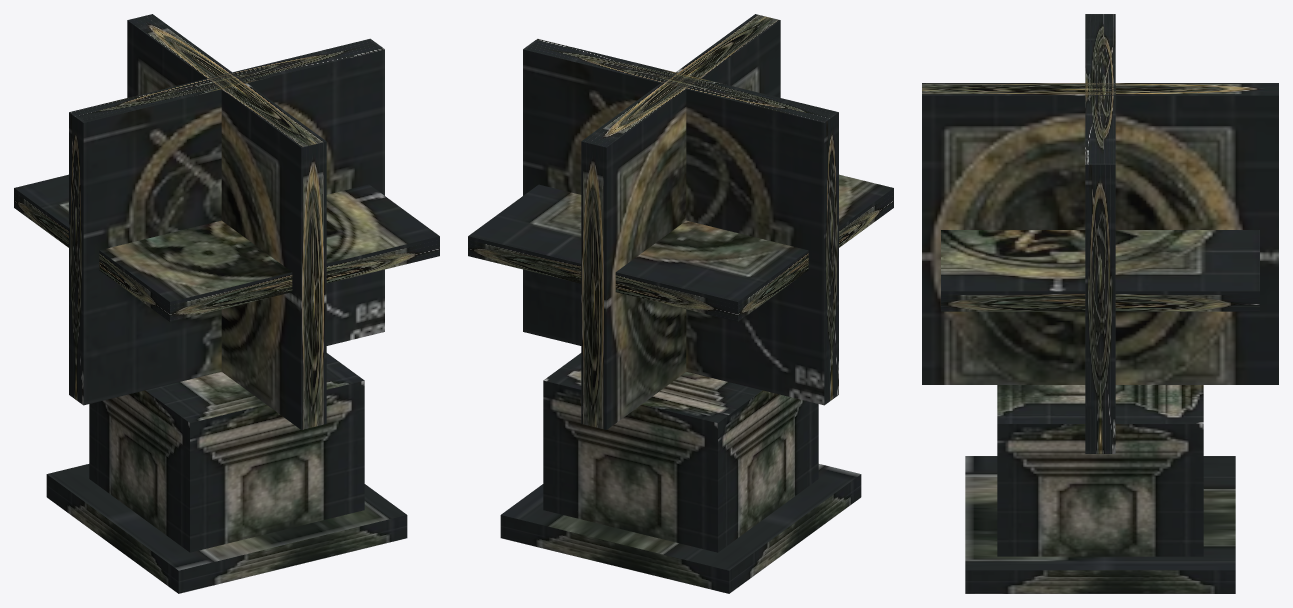
Rendered from sf_anim_orrery_planetarium.glb.
The picture shows the model from 3 angles, left to right: view 1: azimuth 30°, elevation 25°; view 2: azimuth 150°, elevation 25°; view 3: azimuth 270°, elevation 25°; orthographic projection. The views are drawn at different scales.
Visible parts, largest first — view 1: VintageBrassOrrery_AnimPart, VintageBrassOrrery_Root; view 2: VintageBrassOrrery_AnimPart, VintageBrassOrrery_Root; view 3: VintageBrassOrrery_AnimPart, VintageBrassOrrery_Root.
Boxes of the visible parts, <box> form: VintageBrassOrrery_AnimPart: <box>14,14,439,429</box>; VintageBrassOrrery_Root: <box>46,353,407,593</box>; VintageBrassOrrery_AnimPart: <box>468,14,893,429</box>; VintageBrassOrrery_Root: <box>500,353,861,593</box>; VintageBrassOrrery_AnimPart: <box>922,14,1278,453</box>; VintageBrassOrrery_Root: <box>965,385,1235,593</box>.
Bounding box in the file's own units: 1.9 × 2.63 × 1.9.
Materials: 1 (1 with a texture image).
